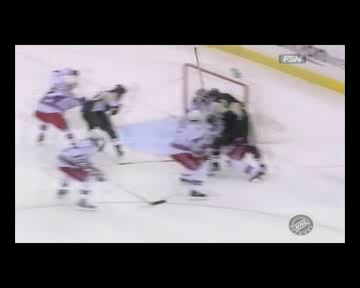normal: (53, 131, 113, 214), (82, 79, 128, 156)
